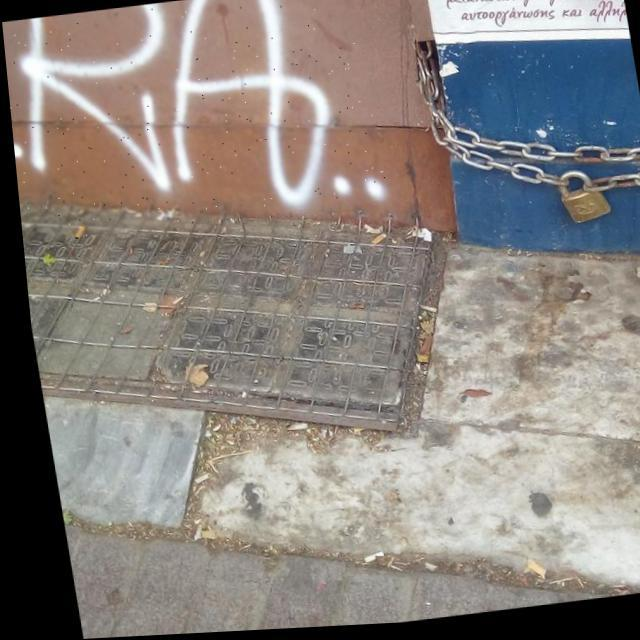-: (0, 0, 385, 244)
